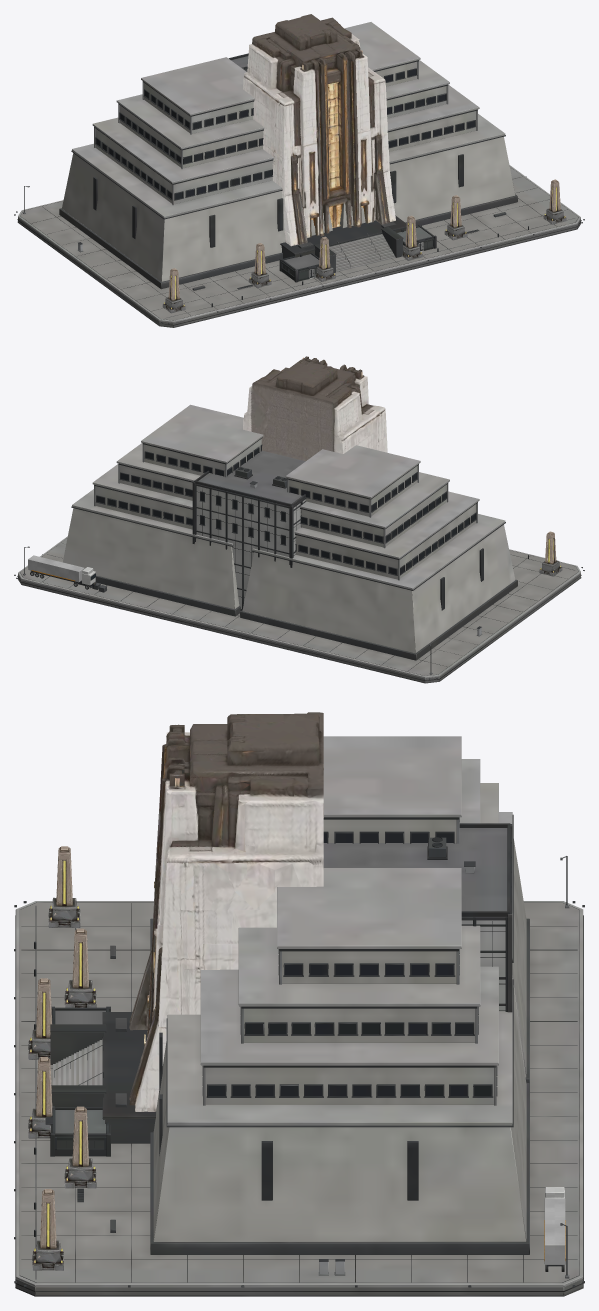
Rendered from library.lite.glb.
The picture shows the model from 3 angles, top to bottom: view 1: azimuth 30°, elevation 25°; view 2: azimuth 150°, elevation 25°; view 3: azimuth 270°, elevation 25°; orthographic projection. The views are drawn at different scales.
Parts seen in each view (by area): view 1: hull, parts_colony-portalTower, parts_colony-monumentPylon; view 2: hull, parts_colony-portalTower, parts_yard-truck, parts_colony-monumentPylon; view 3: hull, parts_colony-portalTower, parts_colony-monumentPylon, parts_yard-truck.
Part boxes in pixels (left/top/right/bottom): hull: left=14, top=22, right=584, bottom=327; parts_colony-portalTower: left=243, top=14, right=395, bottom=246; parts_colony-monumentPylon: left=162, top=179, right=566, bottom=313; hull: left=14, top=404, right=584, bottom=683; parts_colony-portalTower: left=243, top=356, right=387, bottom=461; parts_yard-truck: left=28, top=555, right=96, bottom=589; parts_colony-monumentPylon: left=539, top=531, right=562, bottom=576; hull: left=14, top=736, right=584, bottom=1296; parts_colony-portalTower: left=129, top=712, right=323, bottom=1111; parts_colony-monumentPylon: left=28, top=846, right=96, bottom=1270; parts_yard-truck: left=544, top=1187, right=565, bottom=1271.
Bounding box in the file's own units: 112 × 51.22 × 70.42.
5 materials, 5 textured.
